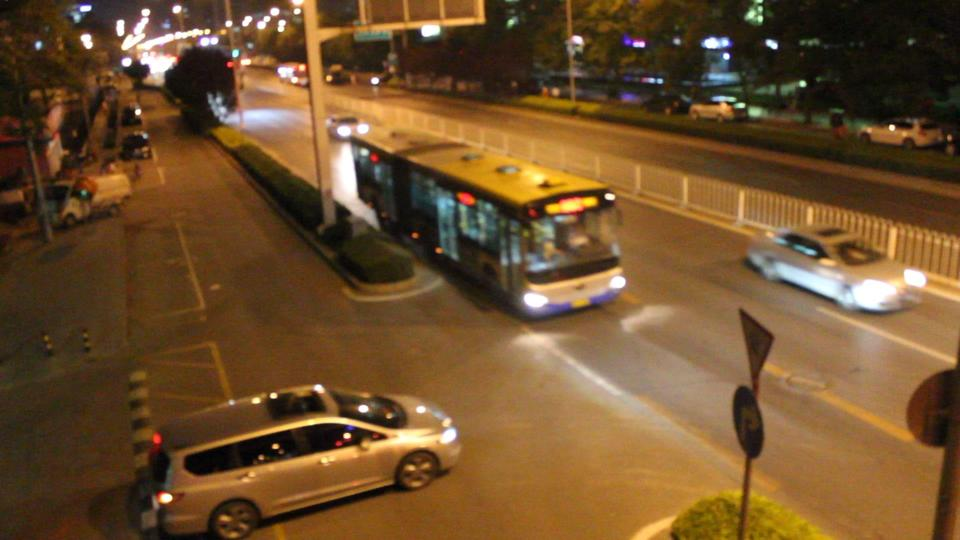bus: (349, 123, 626, 321)
car: (140, 384, 461, 540), (742, 220, 924, 315), (856, 114, 946, 150), (689, 94, 746, 121), (323, 113, 370, 141), (120, 131, 153, 163)
truck: (38, 171, 131, 228)
